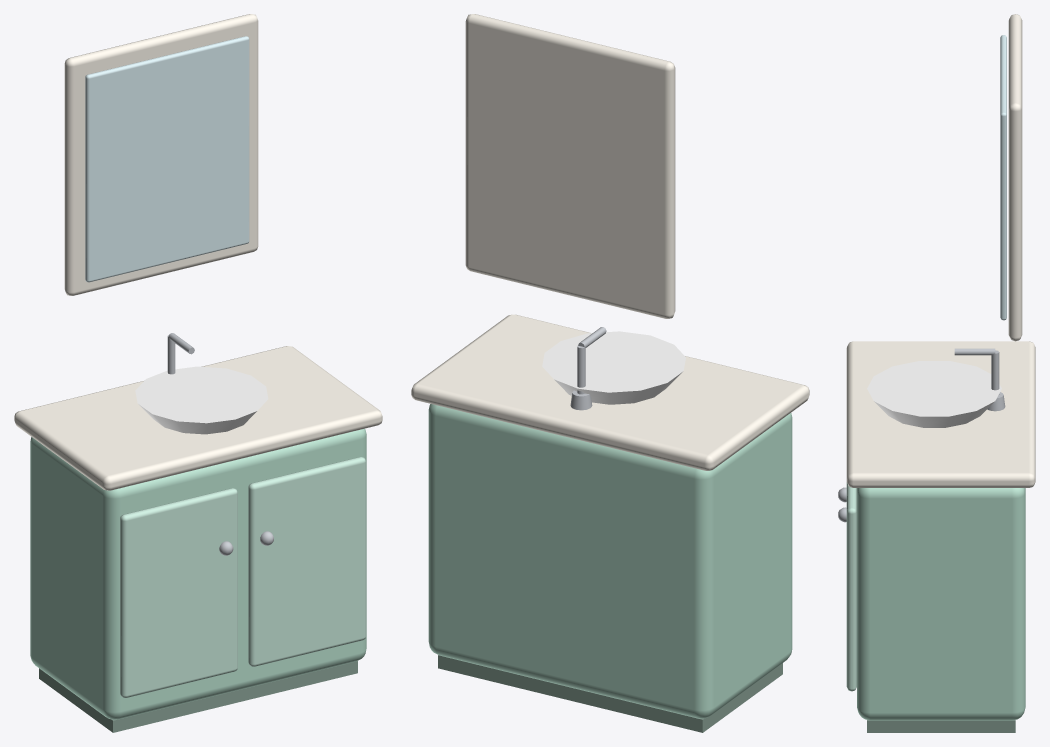
Rendered from vanity.glb.
3 views of the same model, side by side, from view 1: azimuth 30°, elevation 25°; view 2: azimuth 150°, elevation 25°; view 3: azimuth 270°, elevation 25° (orthographic). The views are drawn at different scales.
Size of the model in its own units: 0.96 by 2.01 by 0.5854.
